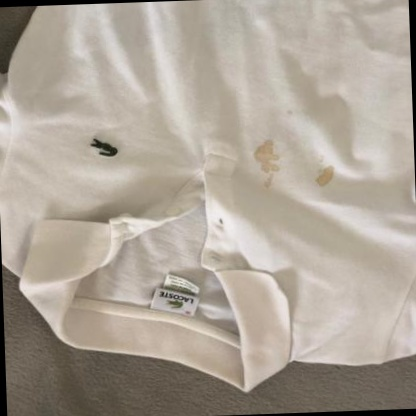coffee: (254, 140, 278, 174), (318, 166, 335, 186)
